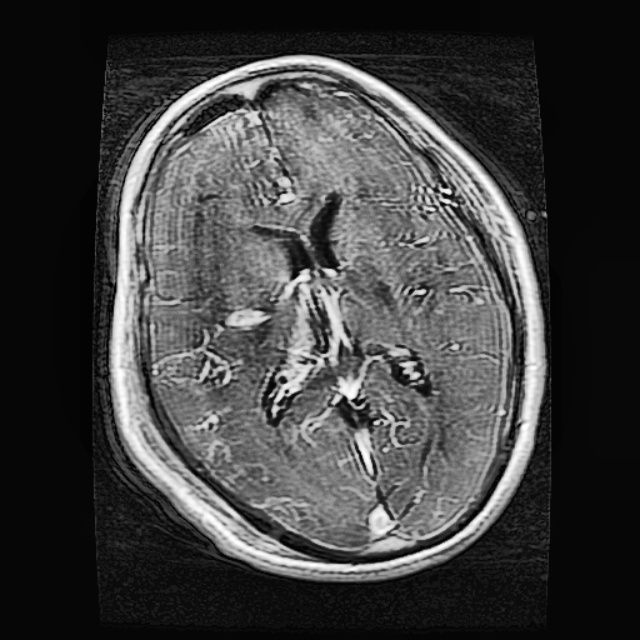Pituitary: (262, 284, 327, 423)
